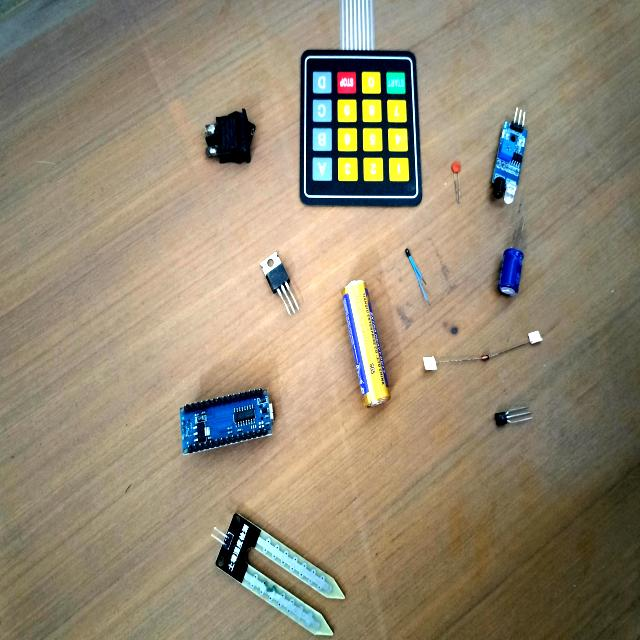capacitor: (499, 248, 524, 294), (451, 161, 461, 174)
